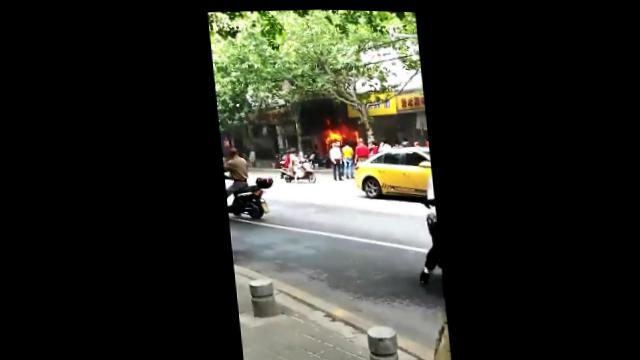fire: (340, 121, 356, 138), (325, 125, 341, 139)
